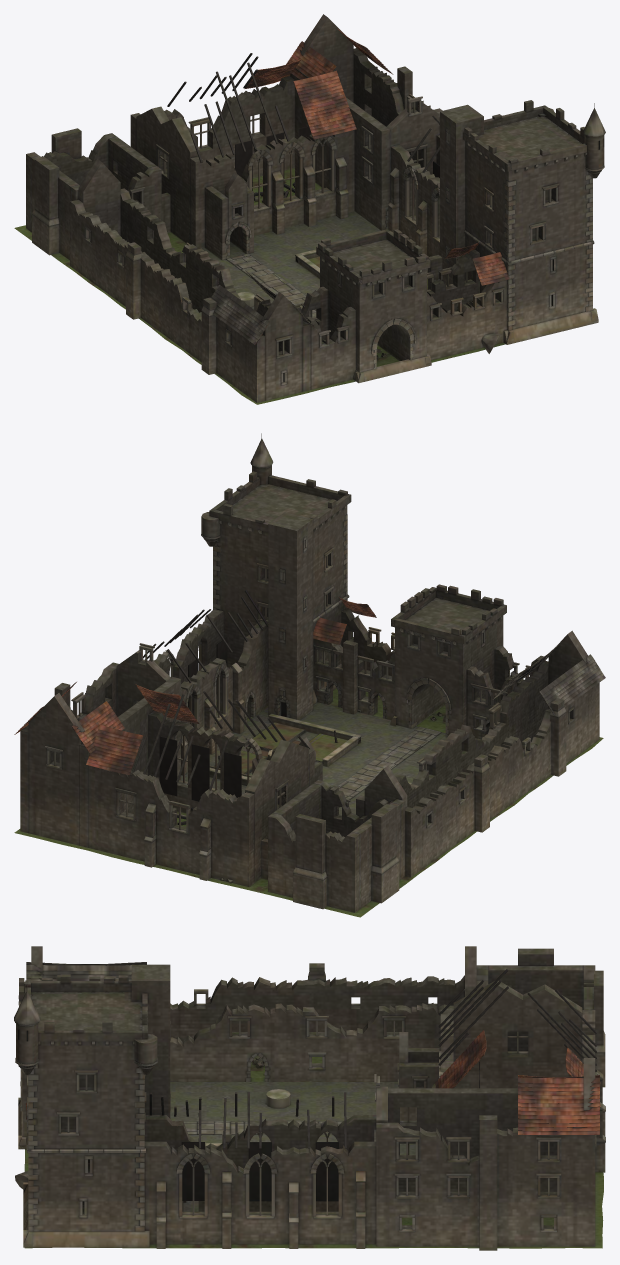
Rendered from palace_ruin.glb.
The picture shows the model from 3 angles, top to bottom: view 1: azimuth 30°, elevation 25°; view 2: azimuth 150°, elevation 25°; view 3: azimuth 270°, elevation 25°; orthographic projection. The views are drawn at different scales.
Visible parts, largest first — view 1: palace_ruin_LOD0; view 2: palace_ruin_LOD0; view 3: palace_ruin_LOD0.
Boxes of the visible parts, <box> form: palace_ruin_LOD0: <box>14,14,605,404</box>; palace_ruin_LOD0: <box>14,433,605,917</box>; palace_ruin_LOD0: <box>14,946,605,1250</box>.
Size of what is drawn, in the model's own units: 37.79 by 23.04 by 45.98.
1 material, 1 textured.
